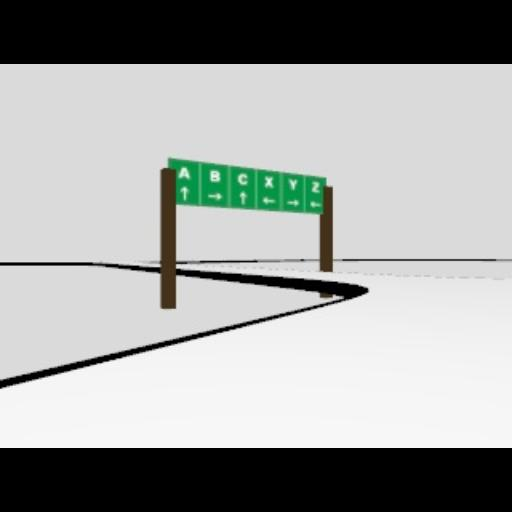A: (178, 166, 188, 178)
B: (208, 170, 220, 180)
C: (236, 172, 248, 184)
Left: (261, 195, 275, 203), (308, 200, 320, 208)
Right: (206, 192, 222, 200), (285, 199, 299, 207)
Straight: (179, 186, 189, 200), (238, 191, 246, 205)
X: (264, 174, 274, 188)
Y: (288, 178, 298, 188)
Z: (310, 180, 320, 192)
